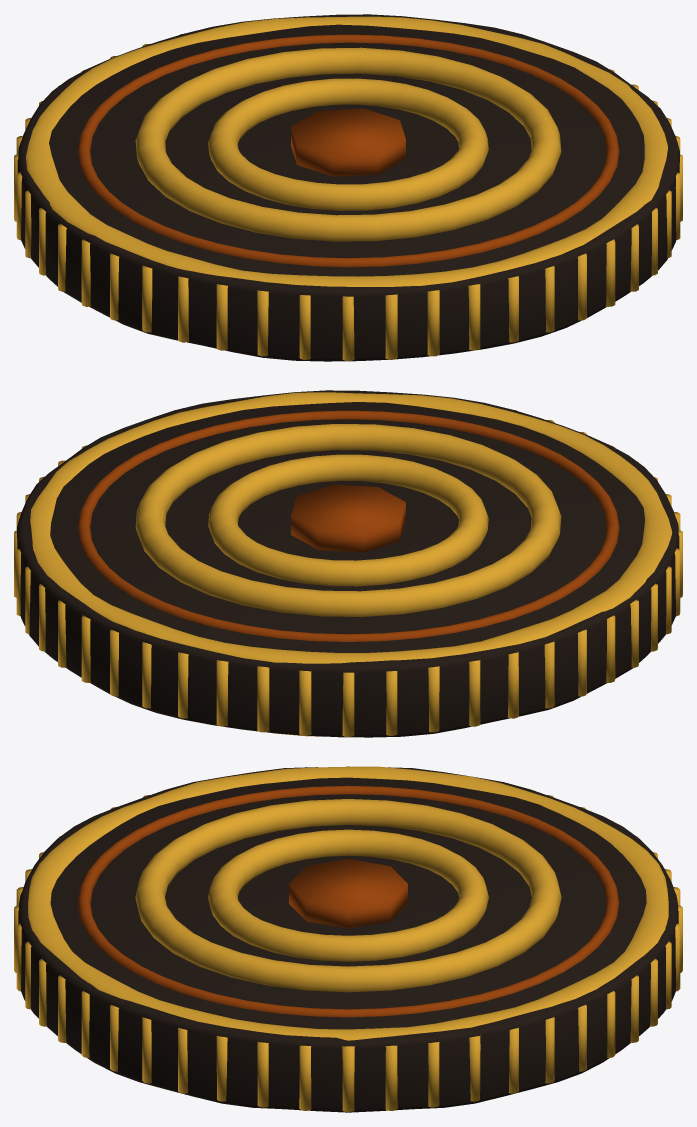
The model's file is token-oil_cask.glb.
3 renders of one model, top to bottom at view 1: azimuth 30°, elevation 25°; view 2: azimuth 150°, elevation 25°; view 3: azimuth 270°, elevation 25°, orthographic.
Parts seen in each view (by area): view 1: TokenBody, Torus.004, TopRim, Torus.005, TopRim_Inner, Cylinder, EdgeReed_34, EdgeReed_33, EdgeReed_35, EdgeReed_32, EdgeReed_29, EdgeReed_31 (+11 smaller); view 2: TokenBody, Torus.004, TopRim, Torus.005, TopRim_Inner, Cylinder, EdgeReed_14, EdgeReed_15, EdgeReed_13, EdgeReed_16, EdgeReed_19, EdgeReed_17 (+11 smaller); view 3: TokenBody, Torus.004, TopRim, Torus.005, TopRim_Inner, Cylinder, EdgeReed_0, EdgeReed_1, EdgeReed_47, EdgeReed_2, EdgeReed_46, EdgeReed_3 (+12 smaller).
Boxes of the visible parts, box(x1,y1,x2,y2) form: TokenBody: box(17, 14, 679, 361); Torus.004: box(135, 47, 561, 241); TopRim: box(26, 16, 667, 286); Torus.005: box(208, 78, 488, 210); TopRim_Inner: box(77, 34, 619, 267); Cylinder: box(291, 108, 405, 176); EdgeReed_34: box(427, 290, 439, 356); EdgeReed_33: box(385, 294, 397, 359); EdgeReed_35: box(468, 284, 480, 350); EdgeReed_32: box(342, 296, 354, 360); EdgeReed_29: box(216, 284, 227, 350); EdgeReed_31: box(299, 295, 310, 359); TokenBody: box(17, 390, 679, 737); Torus.004: box(135, 424, 561, 616); TopRim: box(30, 392, 672, 663); Torus.005: box(208, 454, 488, 586); TopRim_Inner: box(77, 410, 619, 641); Cylinder: box(291, 484, 405, 552); EdgeReed_14: box(257, 666, 269, 732); EdgeReed_15: box(299, 670, 311, 735); EdgeReed_13: box(216, 660, 228, 726); EdgeReed_16: box(342, 672, 354, 737); EdgeReed_19: box(469, 660, 480, 726); EdgeReed_17: box(386, 671, 397, 735); TokenBody: box(18, 767, 678, 1112); Torus.004: box(135, 799, 561, 992); TopRim: box(28, 766, 668, 1040); Torus.005: box(208, 829, 488, 961); TopRim_Inner: box(77, 785, 619, 1017); Cylinder: box(289, 859, 407, 928); EdgeReed_0: box(342, 1046, 354, 1112); EdgeReed_1: box(385, 1045, 397, 1110); EdgeReed_47: box(299, 1045, 311, 1110); EdgeReed_2: box(428, 1042, 439, 1107); EdgeReed_46: box(257, 1042, 268, 1107); EdgeReed_3: box(469, 1035, 480, 1101).
Bounding box in the file's own units: 2.02 × 0.3696 × 2.02.
